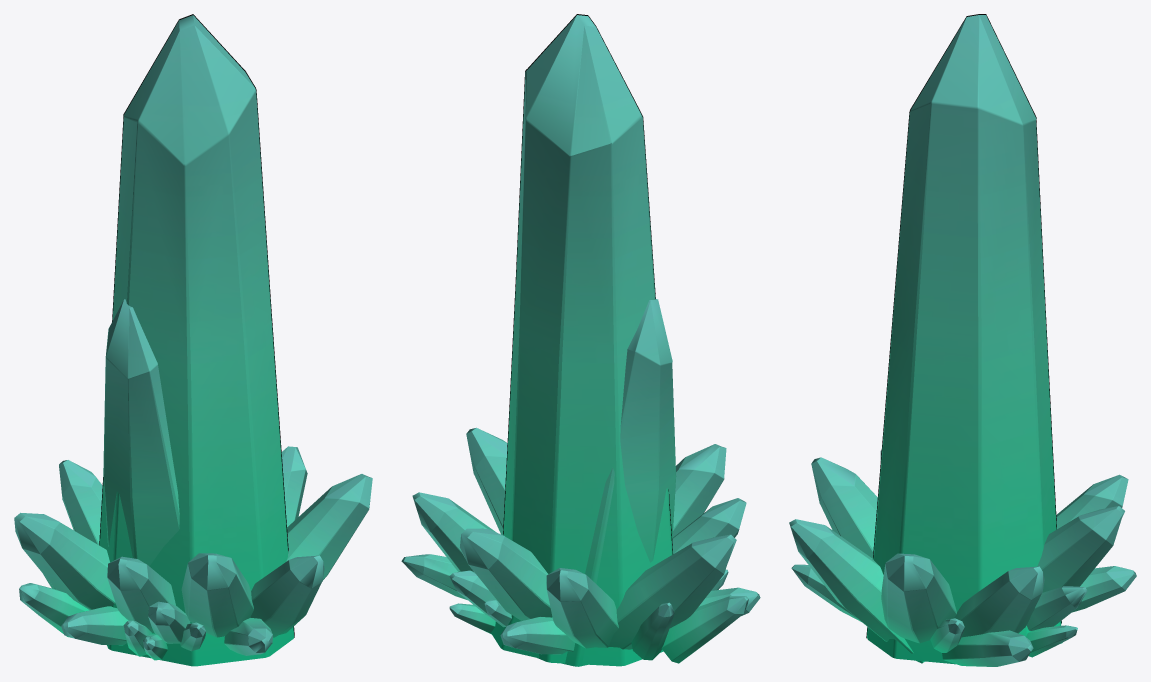
File: pm-crystal-cluster-surrounded.glb
3 views of the same model, side by side, from view 1: azimuth 30°, elevation 25°; view 2: azimuth 150°, elevation 25°; view 3: azimuth 270°, elevation 25° (orthographic).
Parts seen in each view (by area): view 1: Crystal_ClusterSurrounded; view 2: Crystal_ClusterSurrounded; view 3: Crystal_ClusterSurrounded.
Boxes of the visible parts, x1,y1,x2,y2 form: Crystal_ClusterSurrounded: (14, 14, 372, 666); Crystal_ClusterSurrounded: (401, 14, 760, 666); Crystal_ClusterSurrounded: (789, 14, 1136, 666).
Size of the model in its own units: 8.05 by 14.74 by 7.51.
2 materials, 1 textured.
